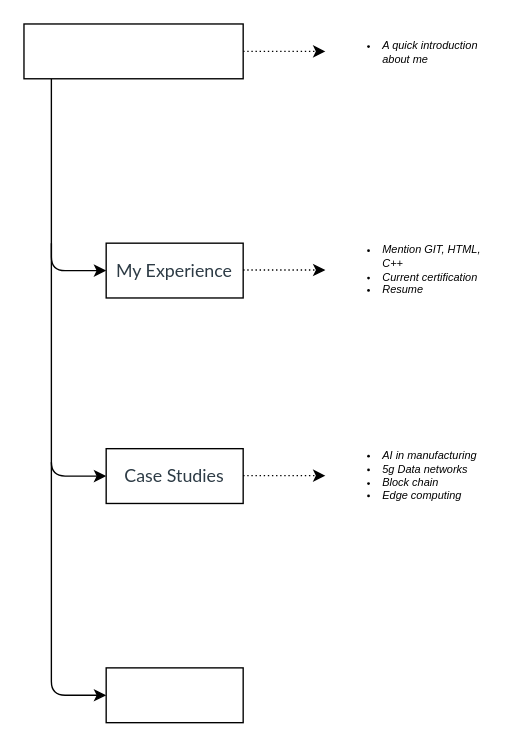
Image size: 527x747. Some labels were removed from this diagram. The centre of each missing label's shape, as x and y in pixels:
Contact: point (174, 695)
Home (index.html): point (133, 51)
